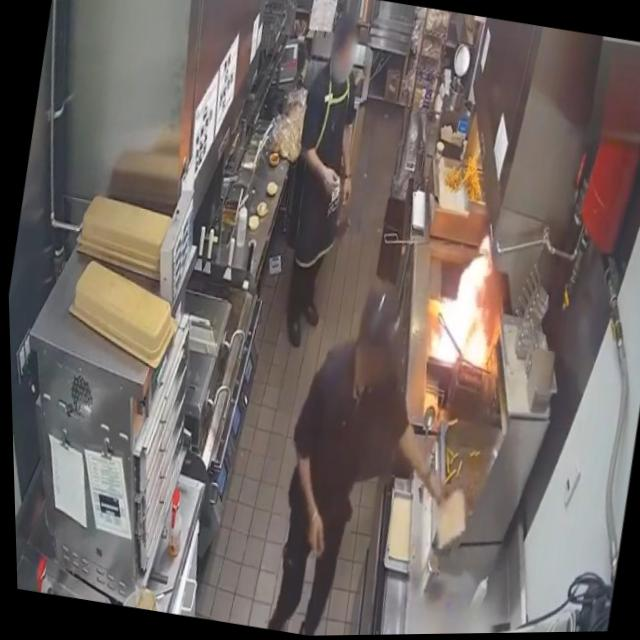fire: (420, 223, 512, 379)
